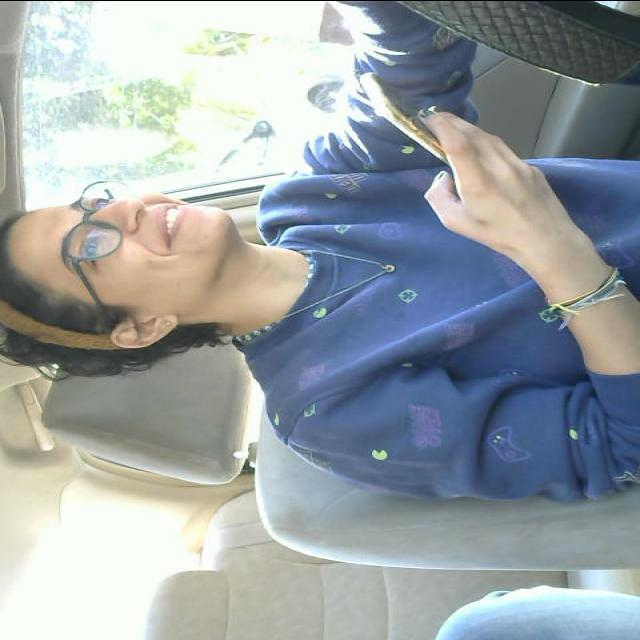mobile use: (358, 68, 498, 176)
